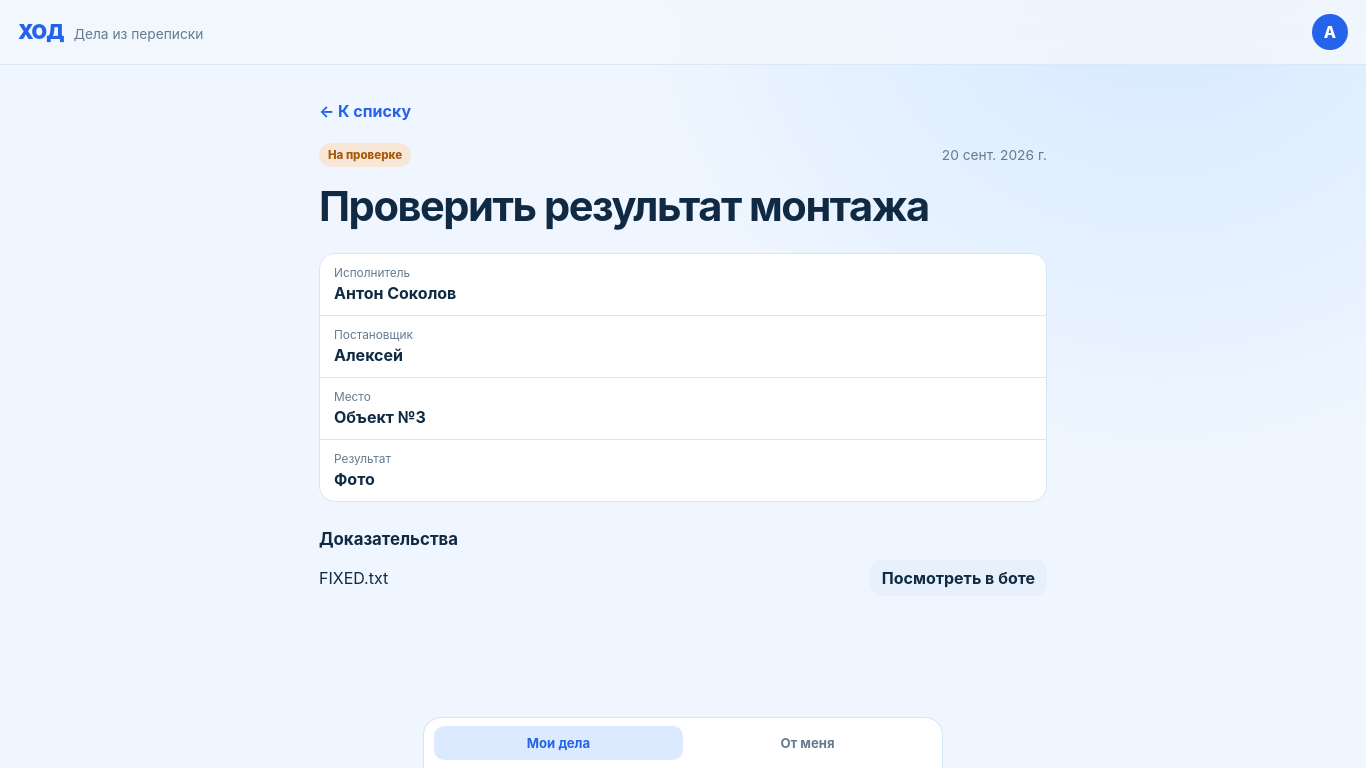
Mini App › sends a phone attachment to the bot without attempting a browser download
Check: the text "FIXED.txt" is shown, box [319,568,388,588]
Click the button with aria-label "Посмотреть FIXED.txt в боте" at (958, 578), box [870,560,1047,596]
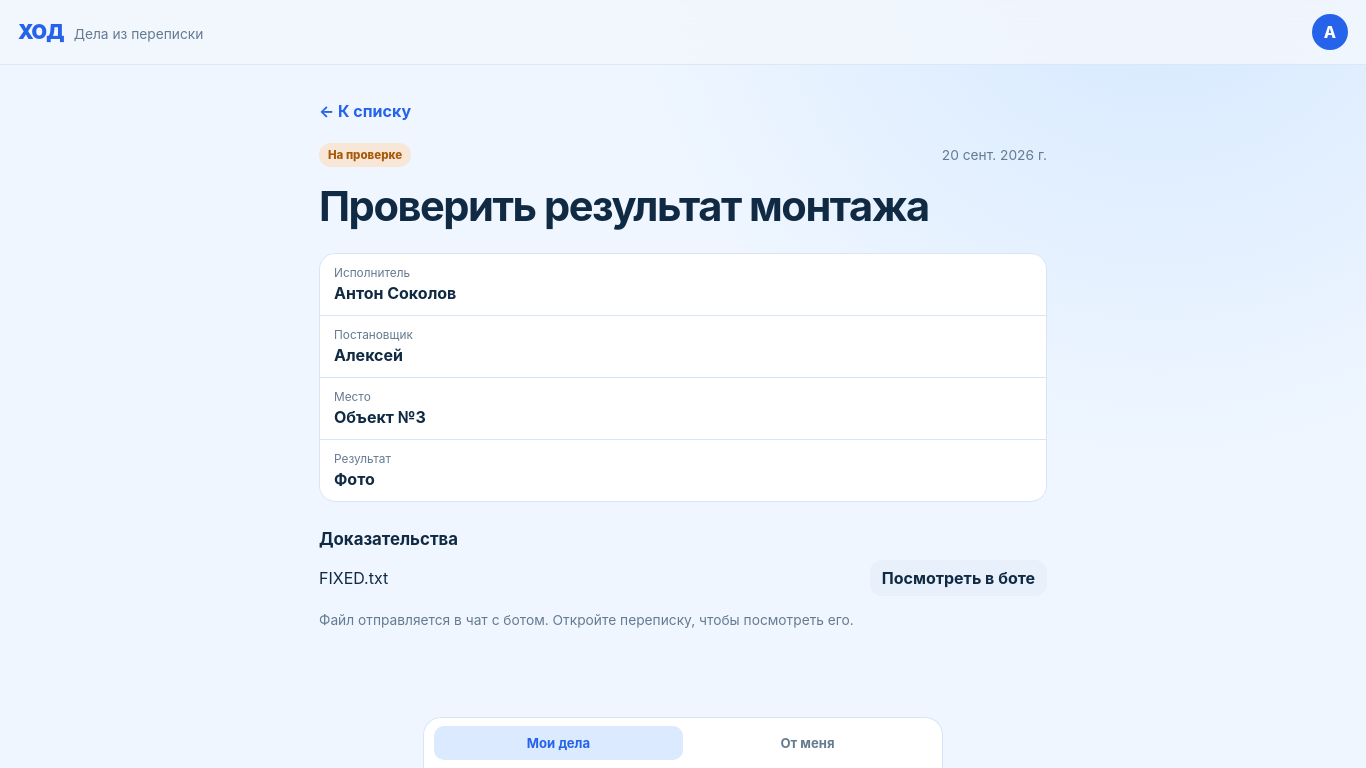
Check: the text "Файл отправляется в чат с ботом" is shown, box [319,612,854,628]
